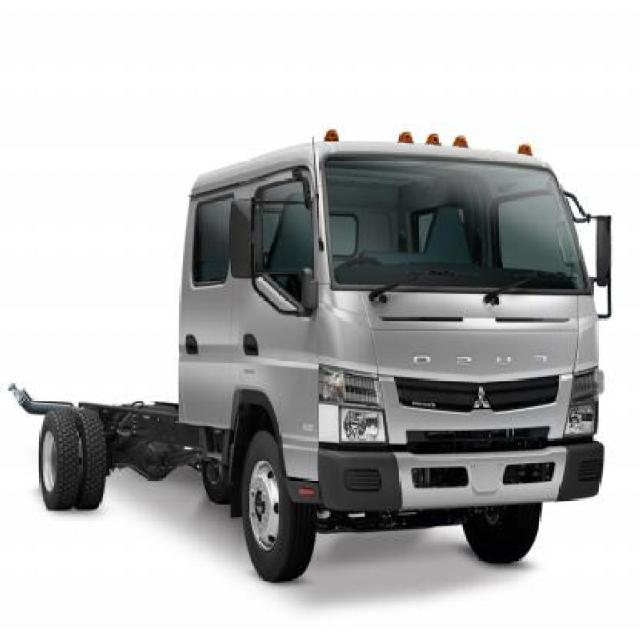truck: (3, 132, 619, 579)
